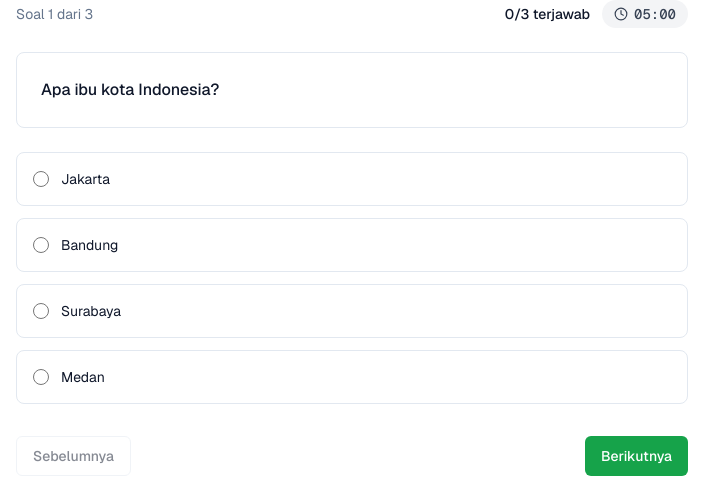
QuizComponent › shows submit button on last question
// Navigate to last question
Click the button "Berikutnya".
click(636, 456)  # box [585,436,688,476]
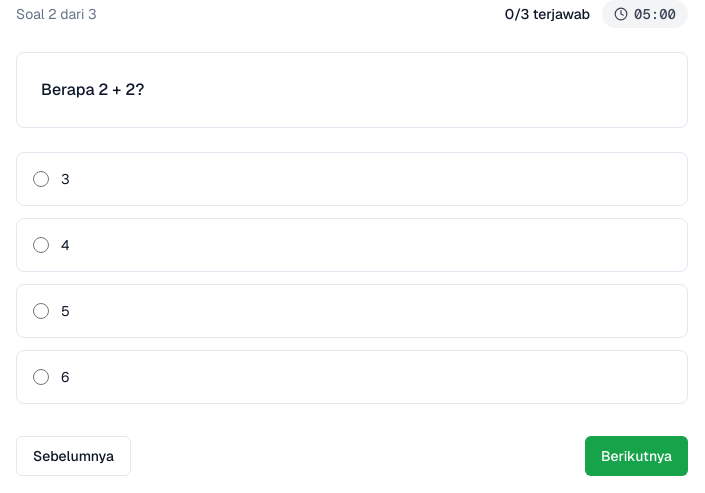
Click the button "Berikutnya".
click(636, 456)  # box [585,436,688,476]
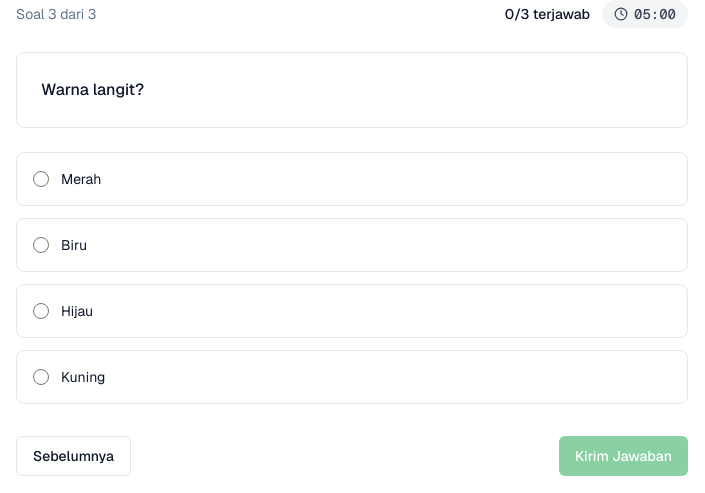
Expected: the button "Kirim Jawaban" is shown, [559,436,688,476]
